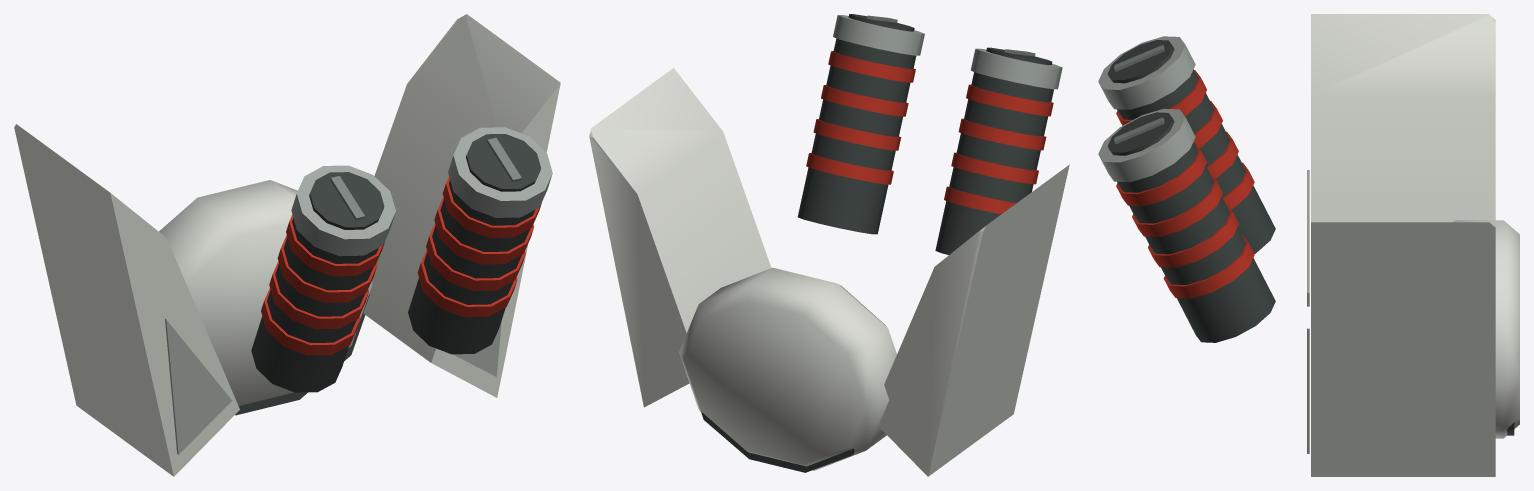
File: diabolus.obj
The picture shows the model from 3 angles, left to right: view 1: azimuth 30°, elevation 25°; view 2: azimuth 150°, elevation 25°; view 3: azimuth 270°, elevation 25°; orthographic projection. The views are drawn at different scales.
Visible parts, largest first — view 1: source_component_002, source_component_004, source_component_001, source_component_014, source_component_006, source_component_003, source_component_019, source_component_011, source_component_012, source_component_020, source_component_017, source_component_008 (+8 smaller); view 2: source_component_004, source_component_001, source_component_002, source_component_014, source_component_006, source_component_011, source_component_019, source_component_008, source_component_009, source_component_015, source_component_010, source_component_016 (+4 smaller); view 3: source_component_004, source_component_002, source_component_014, source_component_001, source_component_006, source_component_011, source_component_019, source_component_018, source_component_016, source_component_015, source_component_017, source_component_020 (+5 smaller).
Boxes of the visible parts, x1=… form: source_component_002: x1=14, y1=124, x2=239, y2=476; source_component_004: x1=363, y1=14, x2=560, y2=397; source_component_001: x1=159, y1=180, x2=372, y2=405; source_component_014: x1=408, y1=180, x2=535, y2=354; source_component_006: x1=251, y1=218, x2=378, y2=392; source_component_003: x1=165, y1=319, x2=232, y2=454; source_component_019: x1=448, y1=127, x2=552, y2=217; source_component_011: x1=291, y1=165, x2=395, y2=256; source_component_012: x1=309, y1=172, x2=384, y2=229; source_component_020: x1=466, y1=134, x2=540, y2=191; source_component_017: x1=434, y1=197, x2=533, y2=264; source_component_008: x1=269, y1=261, x2=368, y2=328; source_component_004: x1=589, y1=68, x2=771, y2=407; source_component_001: x1=679, y1=267, x2=896, y2=470; source_component_002: x1=878, y1=164, x2=1069, y2=476; source_component_014: x1=797, y1=38, x2=916, y2=234; source_component_006: x1=935, y1=72, x2=1053, y2=254; source_component_011: x1=970, y1=48, x2=1062, y2=89; source_component_019: x1=833, y1=15, x2=924, y2=55; source_component_008: x1=951, y1=152, x2=1038, y2=184; source_component_009: x1=958, y1=118, x2=1046, y2=150; source_component_015: x1=806, y1=153, x2=893, y2=184; source_component_010: x1=966, y1=84, x2=1053, y2=116; source_component_016: x1=813, y1=119, x2=901, y2=150; source_component_004: x1=1311, y1=222, x2=1495, y2=476; source_component_002: x1=1311, y1=14, x2=1495, y2=222; source_component_014: x1=1117, y1=142, x2=1275, y2=342; source_component_001: x1=1453, y1=220, x2=1519, y2=438; source_component_006: x1=1117, y1=69, x2=1275, y2=253; source_component_011: x1=1098, y1=36, x2=1195, y2=109; source_component_019: x1=1098, y1=108, x2=1195, y2=182; source_component_018: x1=1116, y1=142, x2=1207, y2=206; source_component_016: x1=1148, y1=204, x2=1238, y2=267; source_component_015: x1=1163, y1=235, x2=1254, y2=298; source_component_017: x1=1132, y1=173, x2=1222, y2=236; source_component_020: x1=1107, y1=112, x2=1174, y2=155.
Size of the model in its own units: 1.84 by 1.4 by 1.57.
